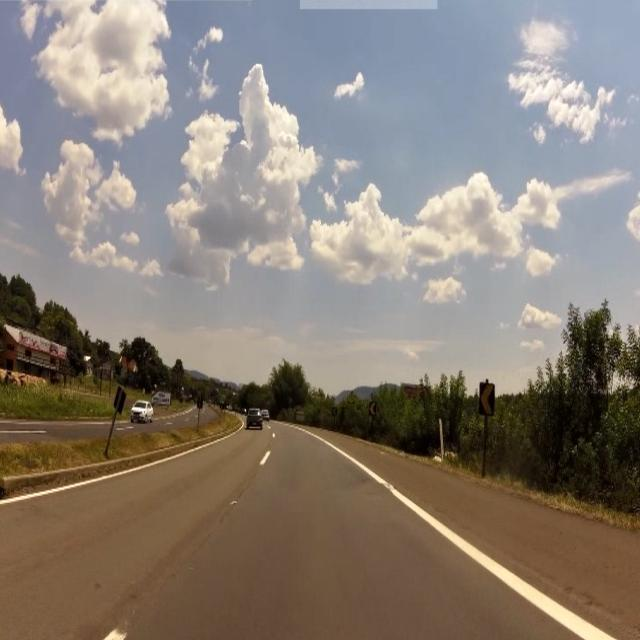Del: (478, 379, 496, 424), (368, 397, 378, 416), (332, 406, 337, 418)
